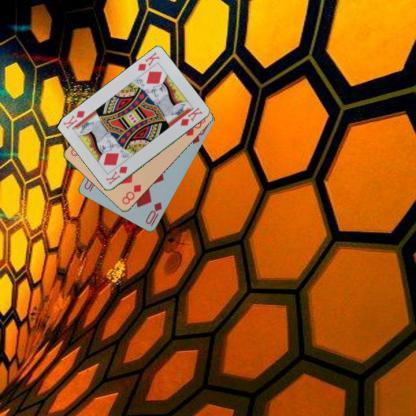10d: (142, 199, 164, 228)
8d: (119, 182, 143, 206)
Kd: (103, 164, 129, 186), (136, 50, 160, 72)
